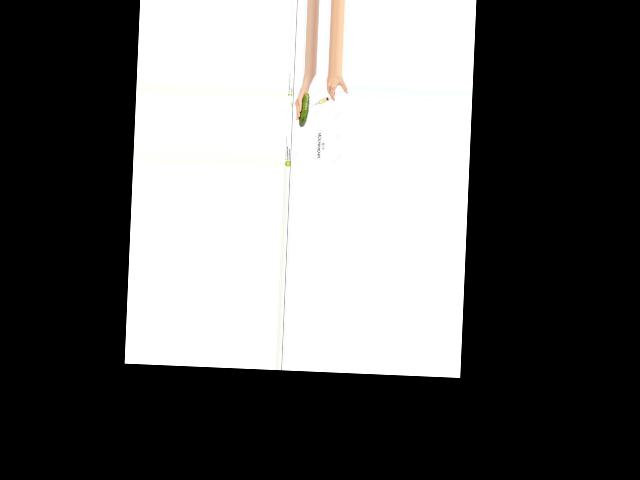cucumber: (298, 92, 309, 126)
